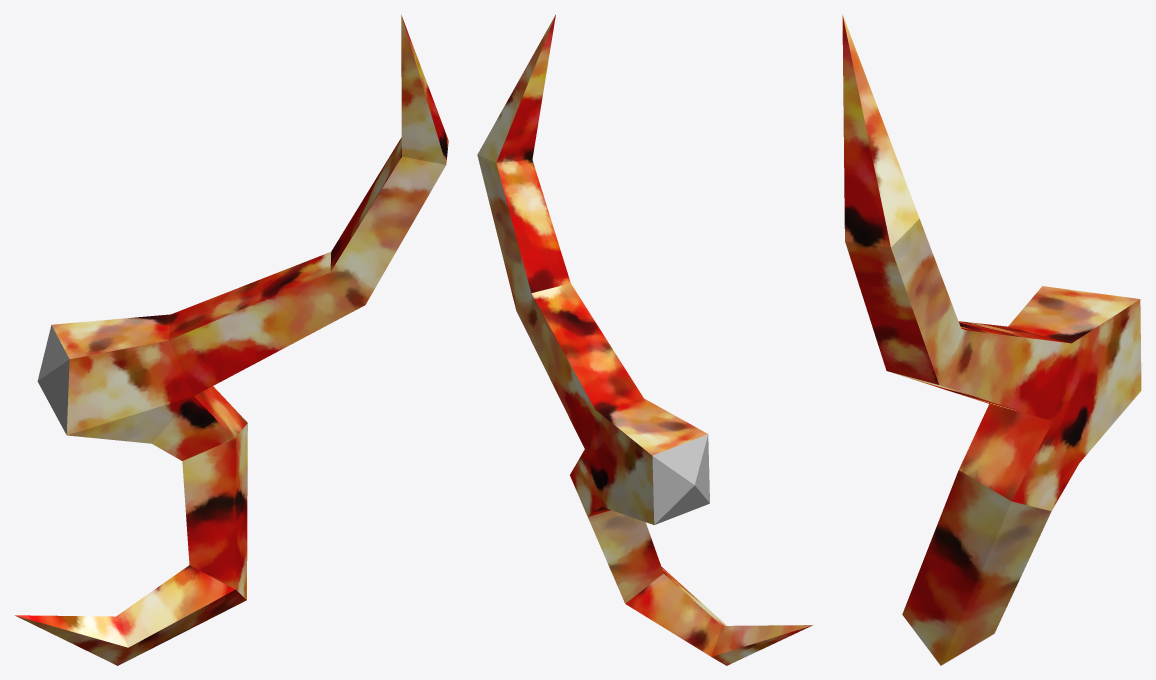
File: LeftAntler3.fbx
The picture shows the model from 3 angles, left to right: view 1: azimuth 30°, elevation 25°; view 2: azimuth 150°, elevation 25°; view 3: azimuth 270°, elevation 25°; orthographic projection. The views are drawn at different scales.
Parts seen in each view (by area): view 1: BigLeftAntler3; view 2: BigLeftAntler3; view 3: BigLeftAntler3.
Part boxes in pixels (bbox=[...]): BigLeftAntler3: bbox=[15, 15, 448, 665]; BigLeftAntler3: bbox=[477, 14, 813, 665]; BigLeftAntler3: bbox=[842, 15, 1141, 665].
Bounding box in the file's own units: 515 × 767 × 270.
